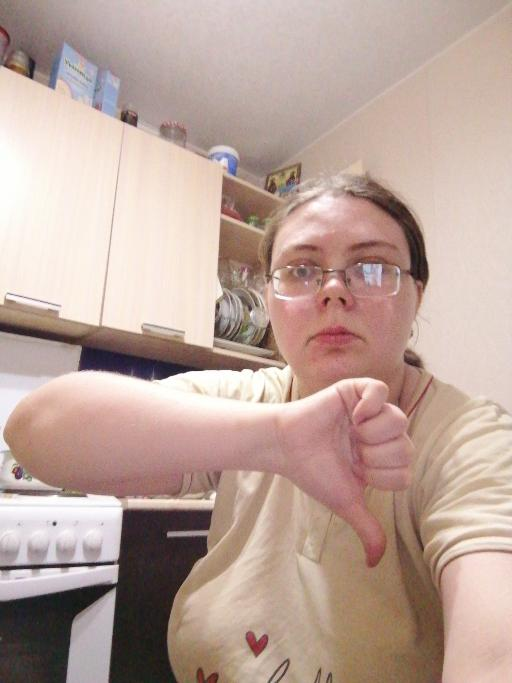dislike: (279, 373, 417, 571)
